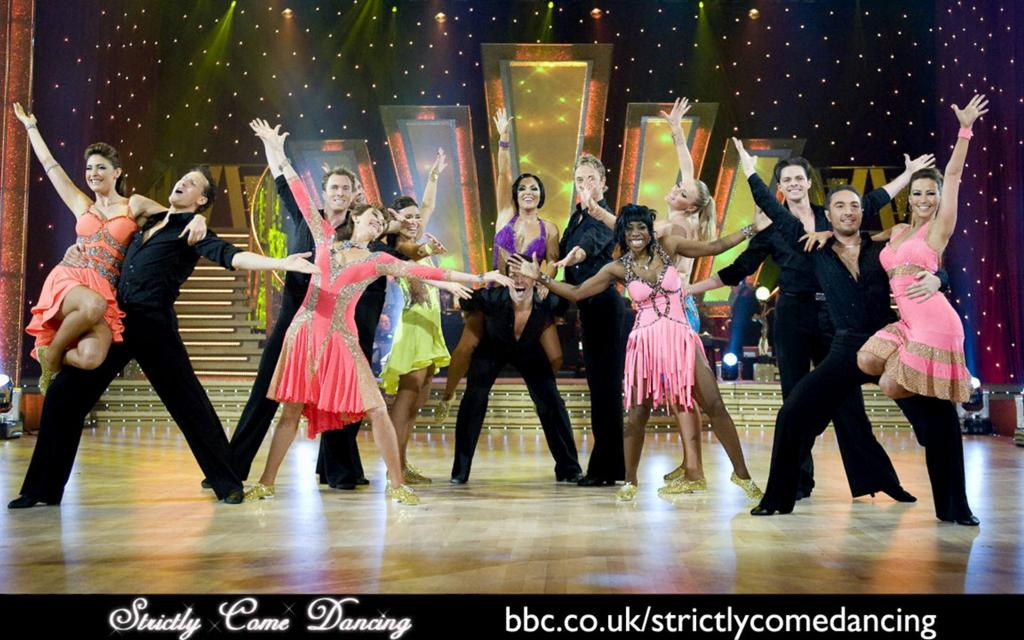face: (168, 170, 206, 204), (829, 191, 861, 230), (85, 155, 114, 191), (910, 178, 938, 215), (507, 266, 534, 299), (780, 166, 807, 199), (325, 175, 351, 209), (622, 221, 650, 251), (665, 180, 696, 206), (575, 166, 600, 198), (360, 207, 385, 237), (398, 205, 421, 237), (517, 177, 540, 209)
